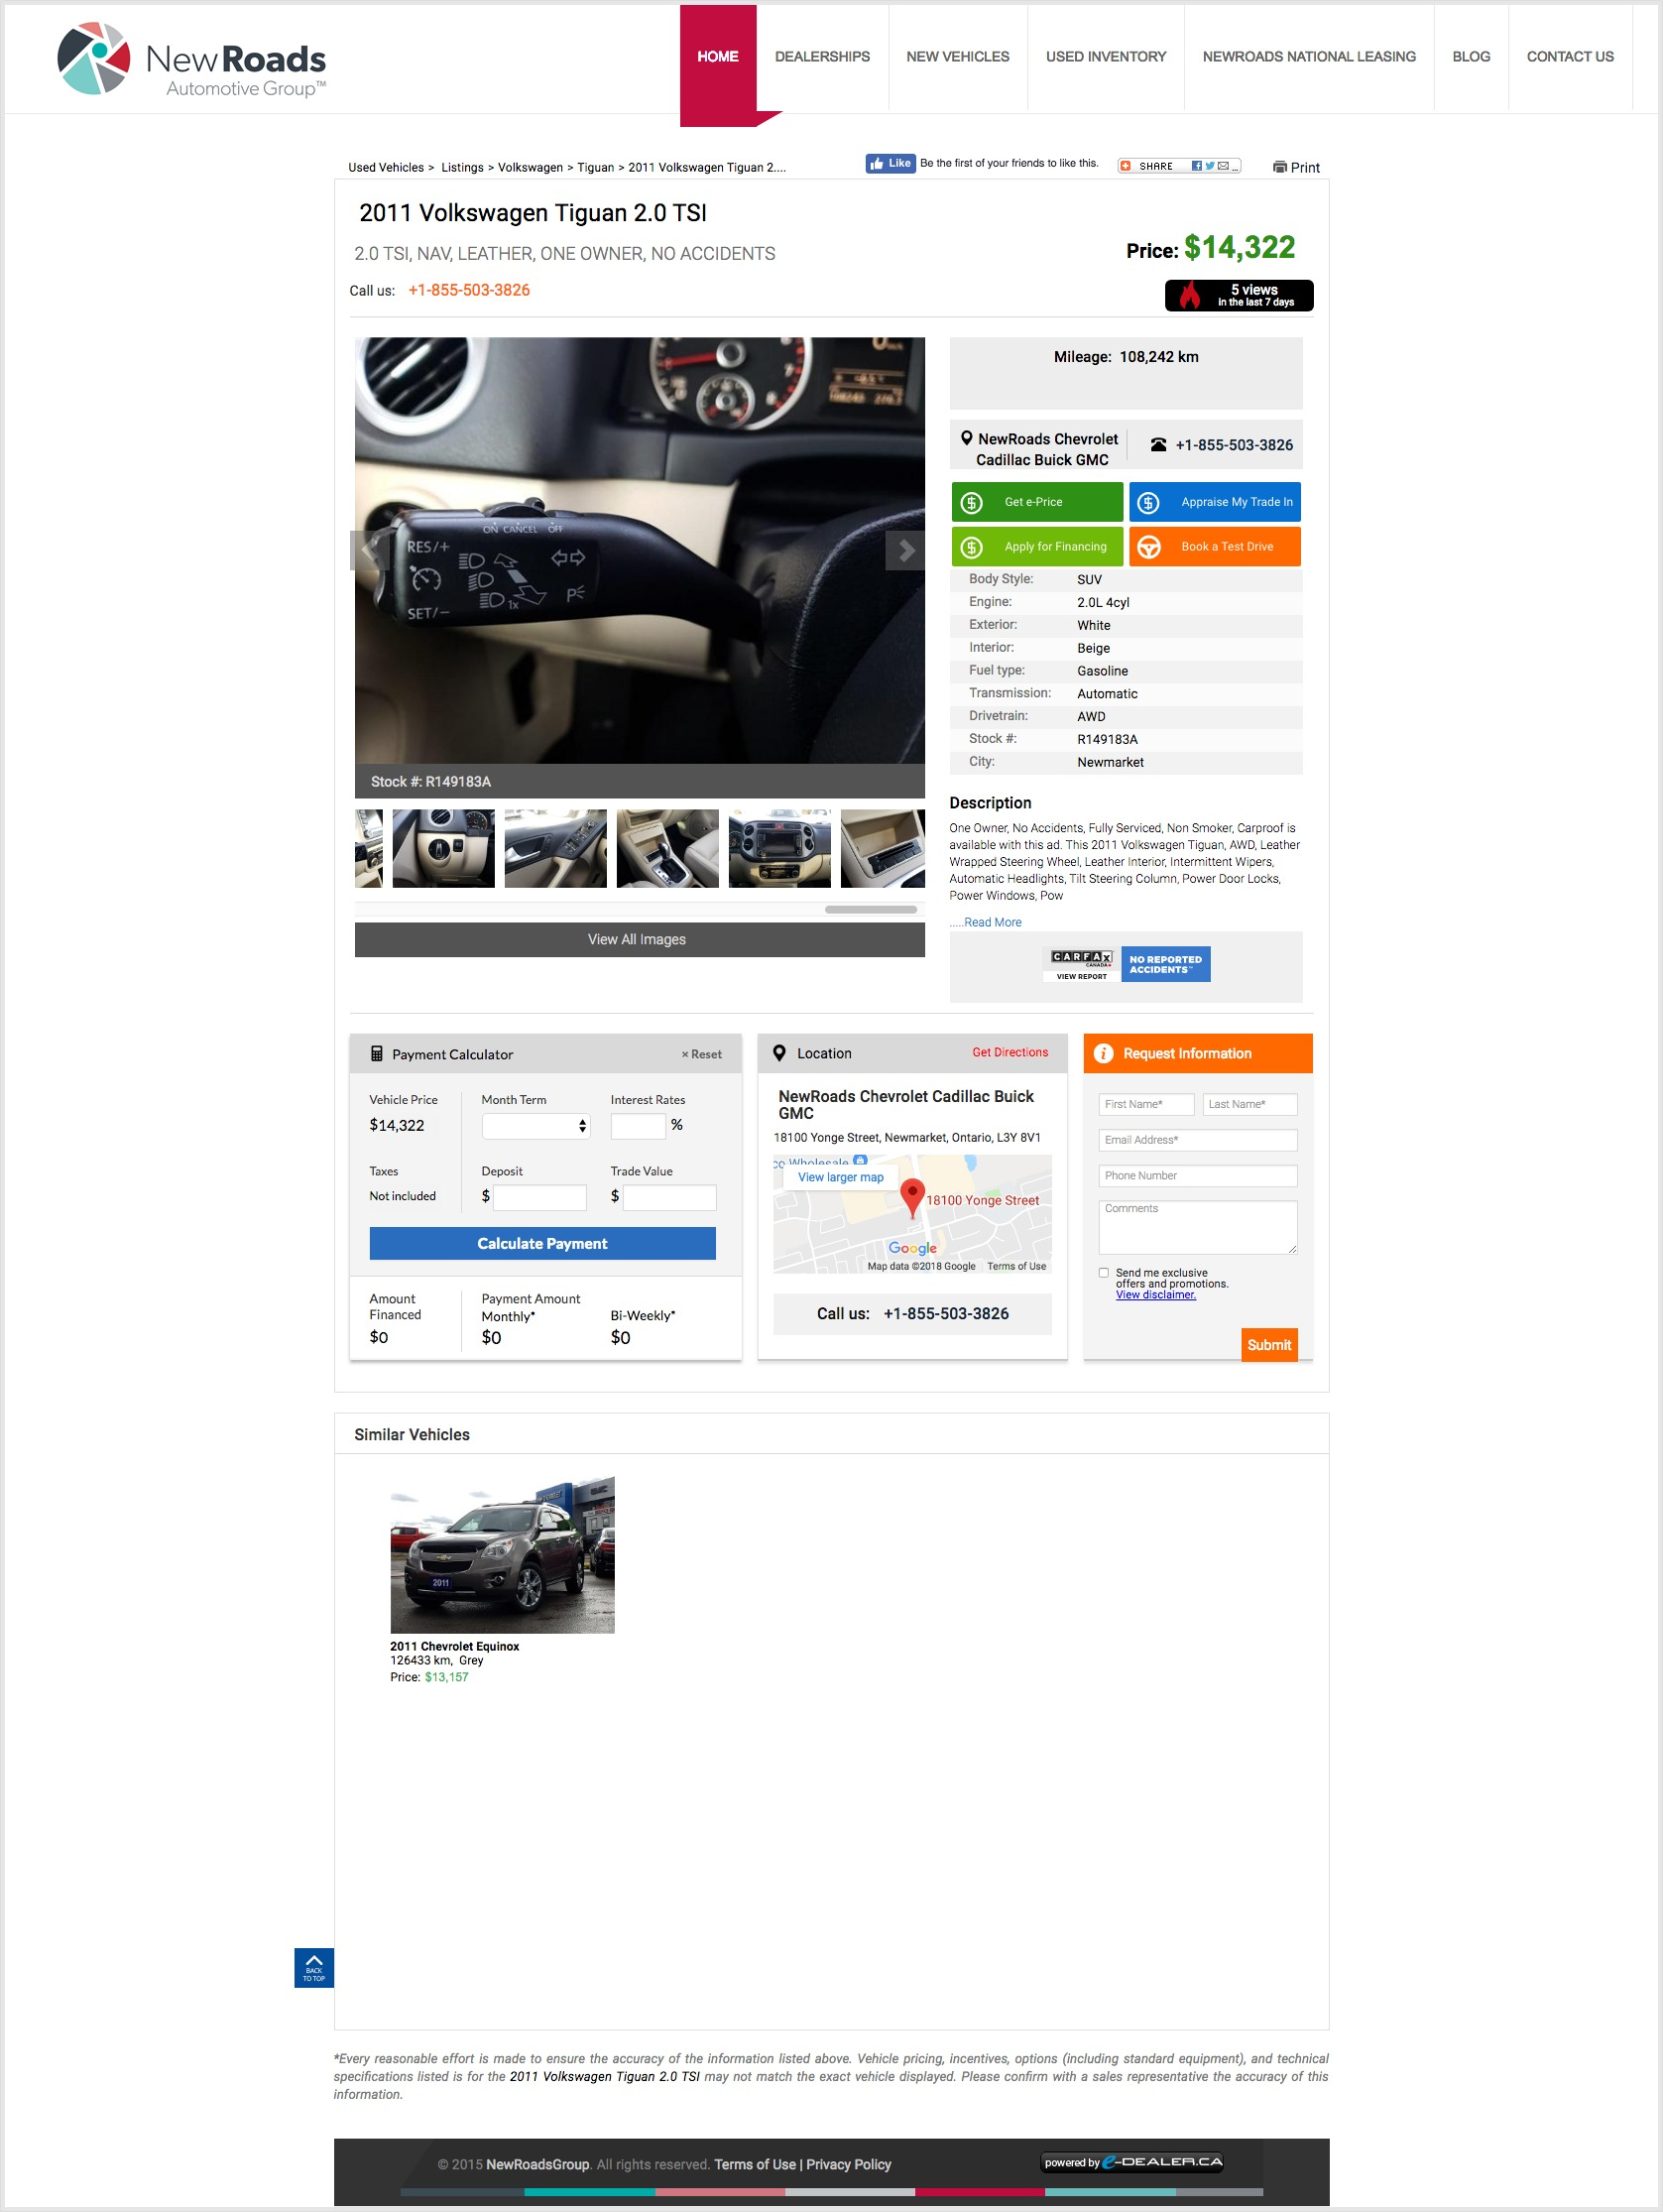car: (900, 540, 919, 563)
